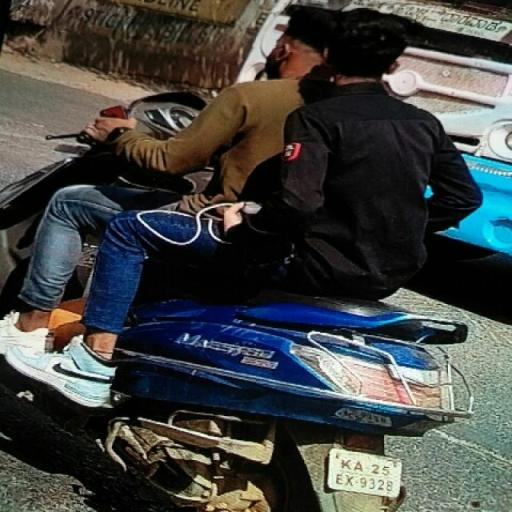bike: (6, 0, 484, 512)
numberplate: (328, 448, 407, 498)
withouthelmet: (334, 9, 408, 79), (265, 8, 336, 74)
